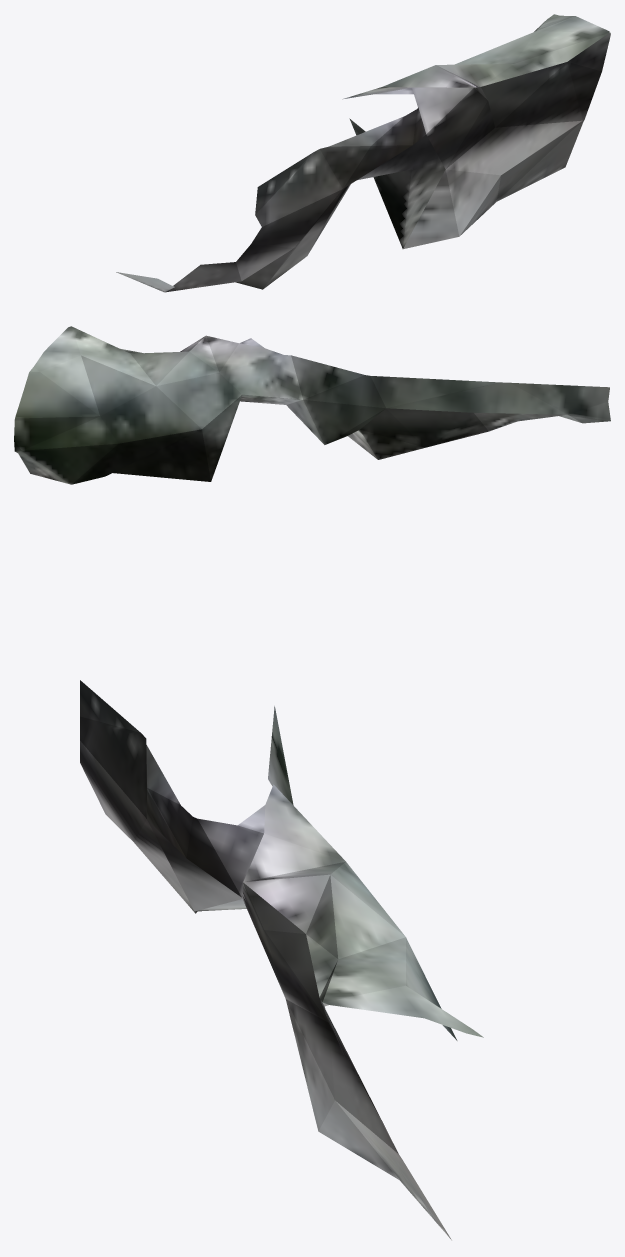
The picture shows the model from 3 angles, top to bottom: view 1: azimuth 30°, elevation 25°; view 2: azimuth 150°, elevation 25°; view 3: azimuth 270°, elevation 25°; orthographic projection. The views are drawn at different scales.
Size of the model in its own units: 0.3393 by 0.0882 by 0.1422.
1 material, 1 textured.
